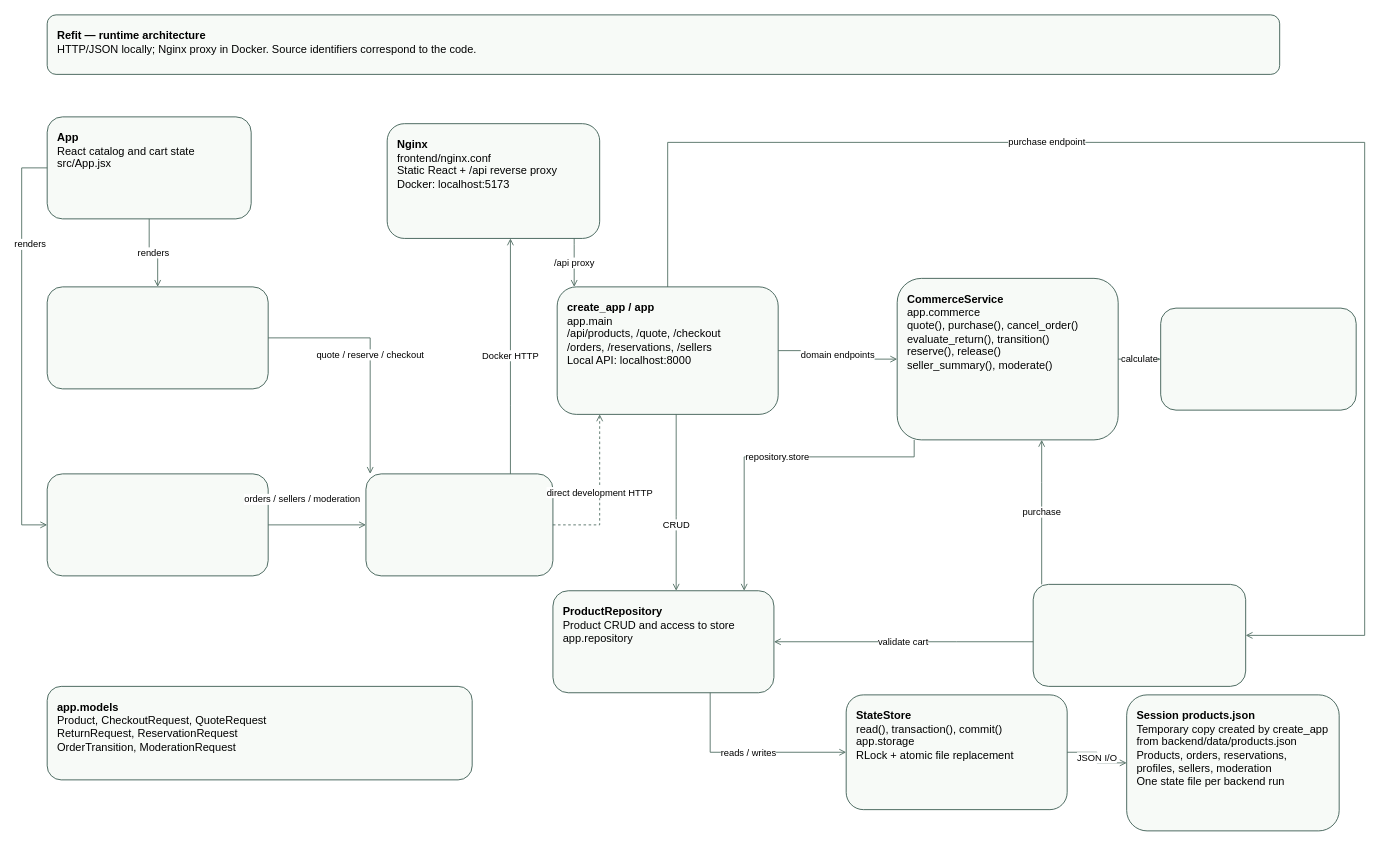
Some shapes in this 1386 by 846 pixel diagram are drawn without their labels. Each missing label, with the box of its shape:
Checkout / CartDrawer / Success Quote, hold, payment, confirmation src/App.jsx: (46, 286, 268, 389)
CheckoutService place_order() app.checkout Card and cart validation: (1032, 584, 1246, 686)
Operations / ReturnForm Orders, returns, seller studio src/Operations.jsx: (46, 473, 268, 576)
PricingEngine calculate() app.pricing: (1160, 307, 1356, 410)
request / API_URL src/api.js Serializes JSON, handles API errors: (365, 473, 553, 576)
